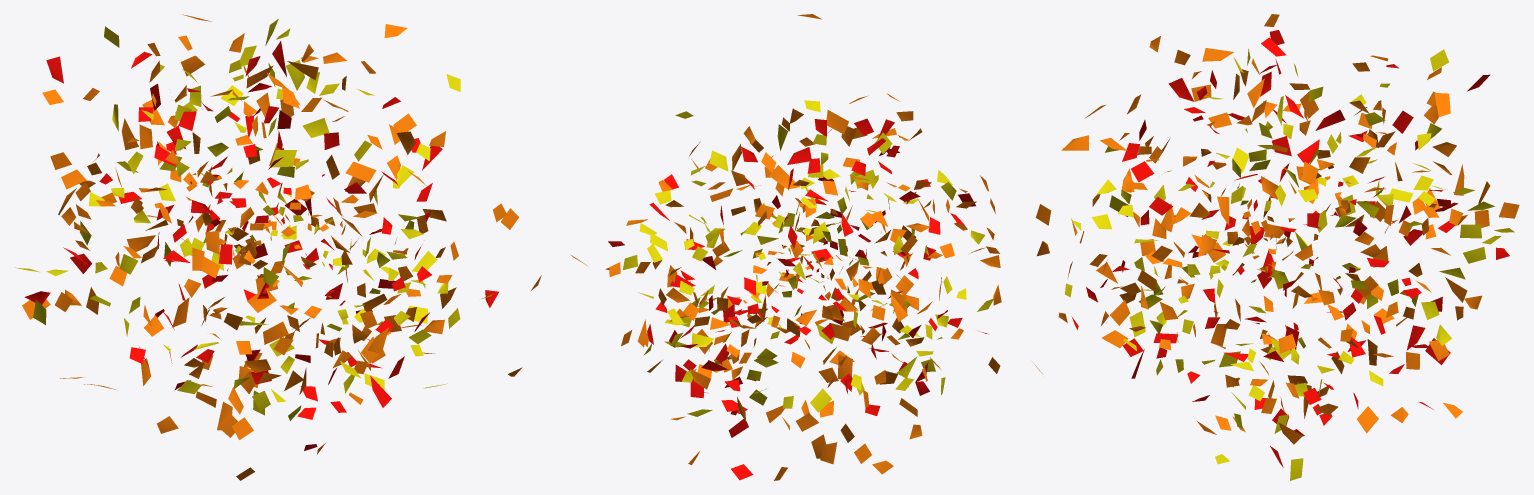
File: leafsThin3.fbx
3 views of the same model, side by side, from view 1: azimuth 30°, elevation 25°; view 2: azimuth 150°, elevation 25°; view 3: azimuth 270°, elevation 25° (orthographic). The views are drawn at different scales.
Parts seen in each view (by area): view 1: leafsThin3_LOD0; view 2: leafsThin3_LOD0; view 3: leafsThin3_LOD0.
Part boxes in pixels (bbox=[...]): leafsThin3_LOD0: bbox=[15, 14, 541, 480]; leafsThin3_LOD0: bbox=[570, 14, 1001, 480]; leafsThin3_LOD0: bbox=[1034, 14, 1519, 480].
Size of what is drawn, in the model's own units: 950 by 986 by 986.
